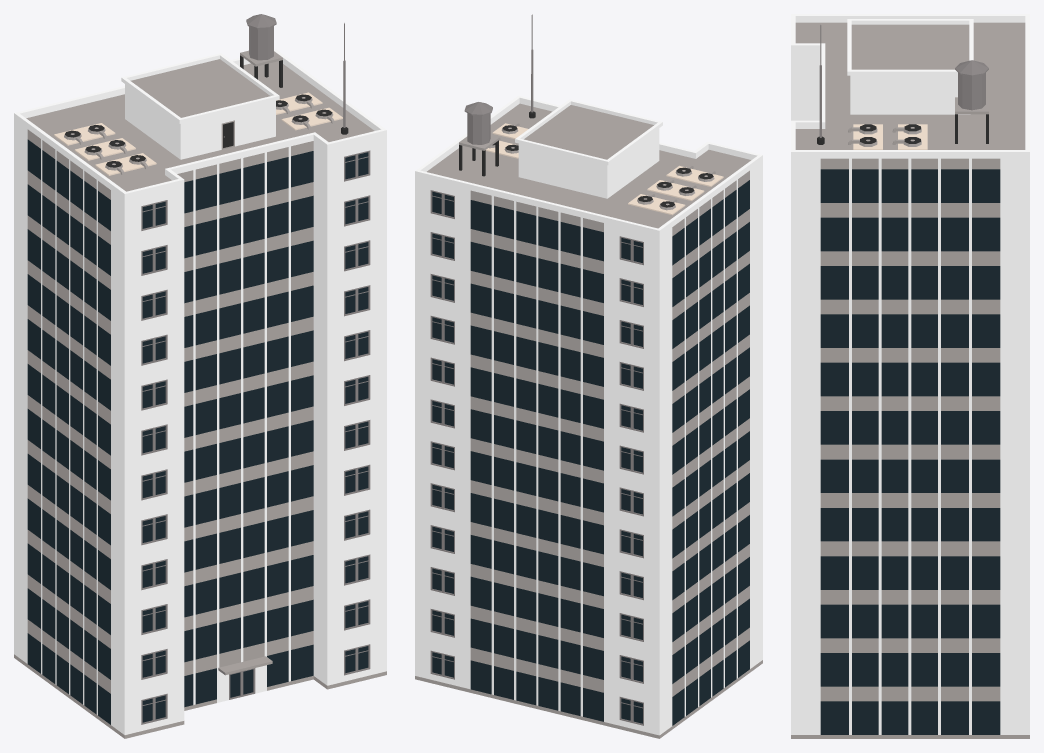
The model's file is building-office-big.glb.
The picture shows the model from 3 angles, left to right: view 1: azimuth 30°, elevation 25°; view 2: azimuth 150°, elevation 25°; view 3: azimuth 270°, elevation 25°; orthographic projection. The views are drawn at different scales.
Visible parts, largest first — view 1: building-office-big; view 2: building-office-big; view 3: building-office-big.
Boxes of the visible parts, bbox=[...] form: building-office-big: bbox=[14, 14, 386, 738]; building-office-big: bbox=[415, 14, 762, 738]; building-office-big: bbox=[791, 14, 1029, 738].
Size of the model in its own units: 22 by 52.08 by 16.1.
Materials: 1 (1 with a texture image).
